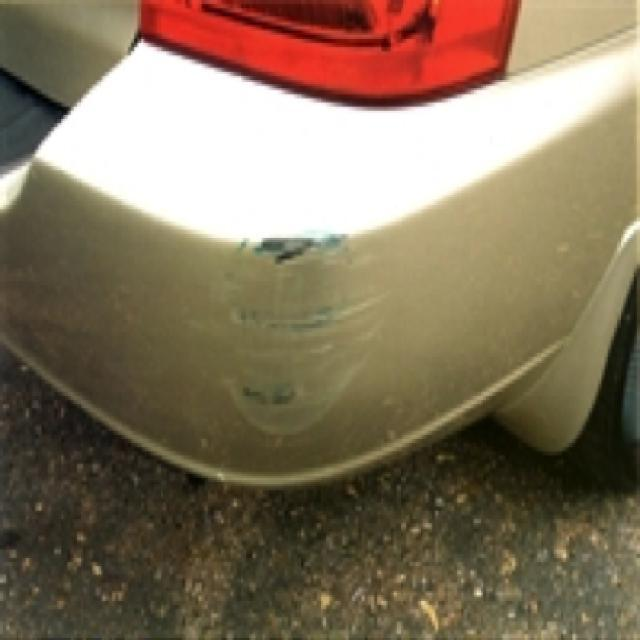scratch: (203, 219, 384, 439)
